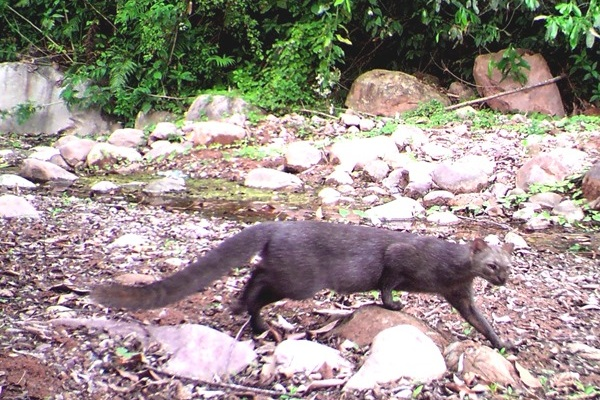Jaguarundi: (89, 219, 531, 360)
